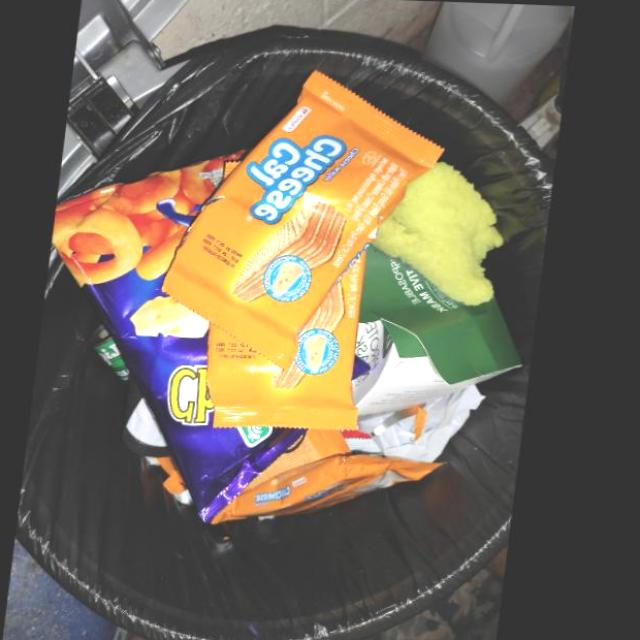bao_bi_thuc_pham: (56, 152, 316, 525), (167, 71, 448, 371), (213, 251, 371, 431), (218, 455, 453, 524)
carton: (359, 245, 531, 418)
